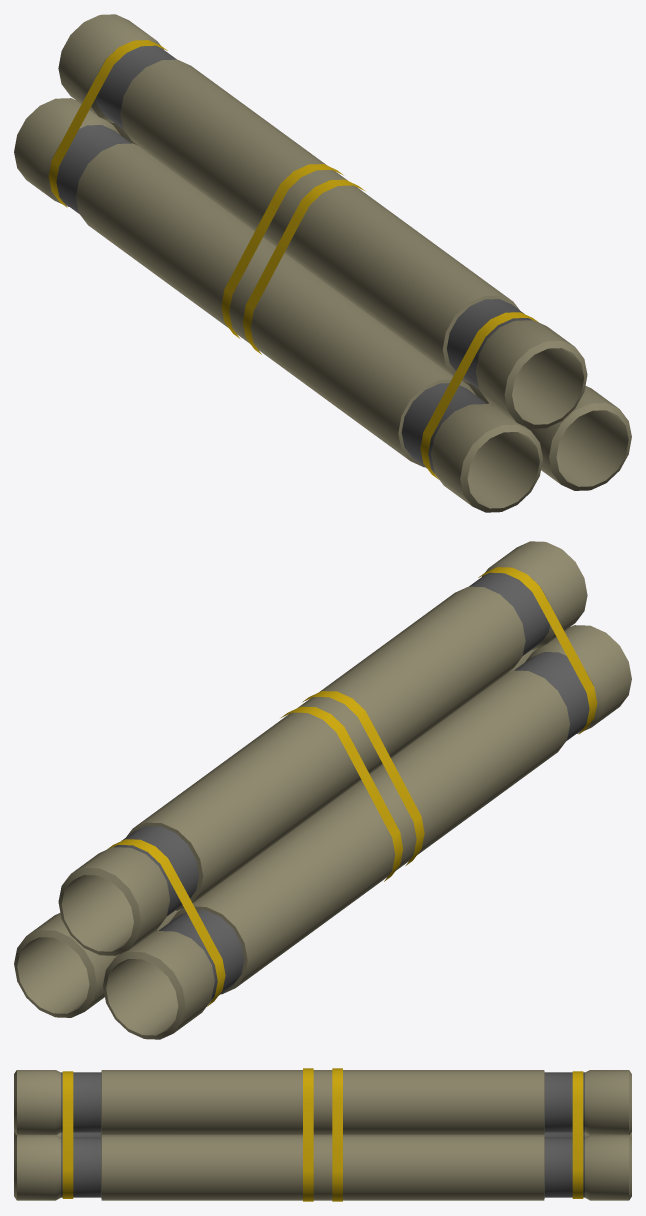
Rendered from Pipes.glb.
The picture shows the model from 3 angles, top to bottom: view 1: azimuth 30°, elevation 25°; view 2: azimuth 150°, elevation 25°; view 3: azimuth 270°, elevation 25°; orthographic projection. The views are drawn at different scales.
Visible parts, largest first — view 1: Pipes; view 2: Pipes; view 3: Pipes.
Boxes of the visible parts, bbox=[...] form: Pipes: bbox=[14, 14, 631, 512]; Pipes: bbox=[14, 541, 631, 1039]; Pipes: bbox=[14, 1068, 631, 1201].
Bounding box in the file's own units: 0.7482 × 0.6713 × 3.36.
1 material, 1 textured.
